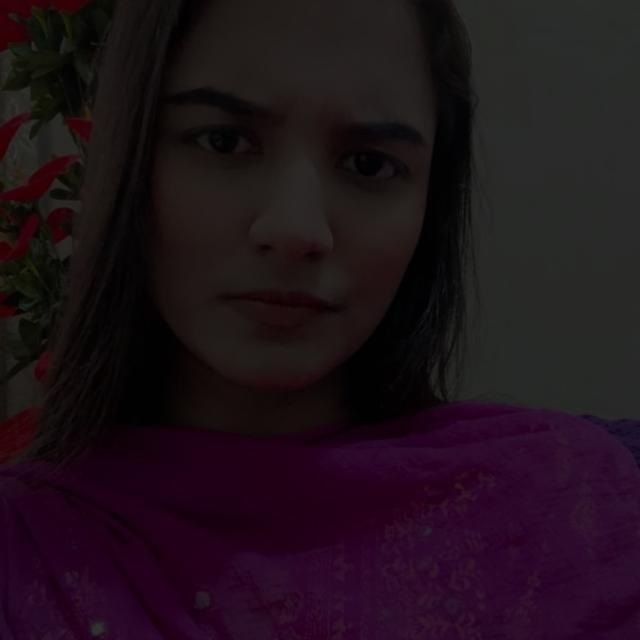Angry: (39, 0, 489, 418)
